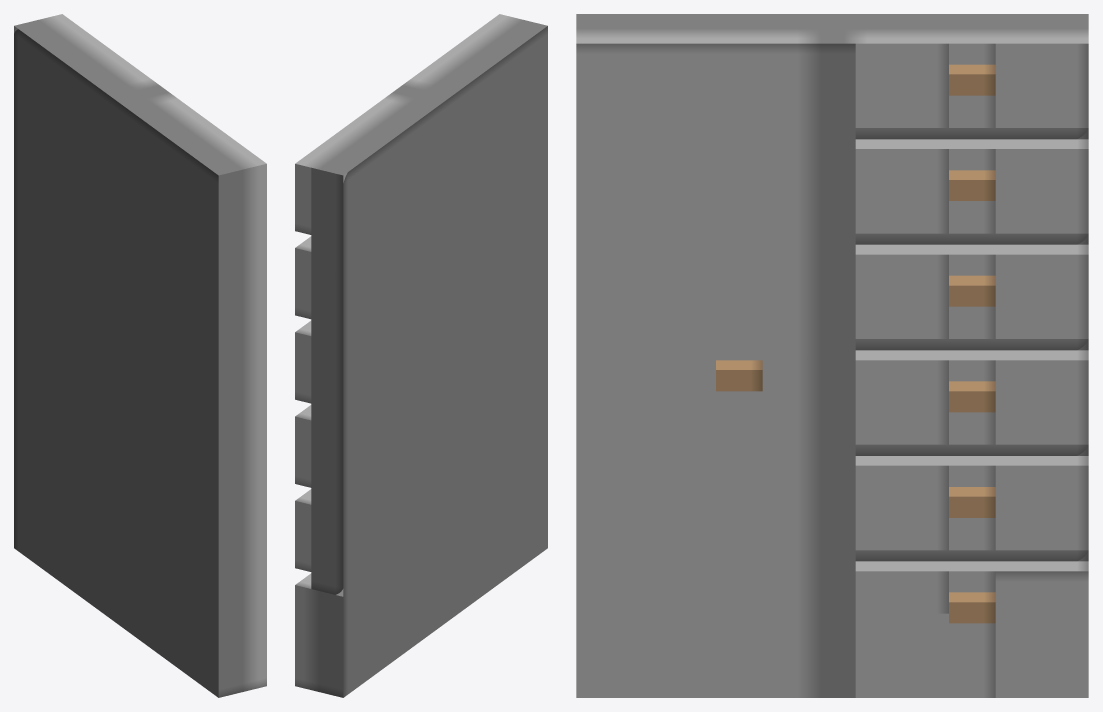
The model's file is regal.dae.
3 renders of one model, left to right at view 1: azimuth 30°, elevation 25°; view 2: azimuth 150°, elevation 25°; view 3: azimuth 270°, elevation 25°, orthographic. The views are drawn at different scales.
Visible parts, largest first — view 1: regal; view 2: regal; view 3: regal.
Boxes of the visible parts, x1,y1,x2,y2 form: regal: (14, 14, 266, 697); regal: (295, 14, 547, 697); regal: (576, 14, 1088, 697).
Bounding box in the file's own units: 4 × 31 × 22.
Materials: 1 (1 with a texture image).
